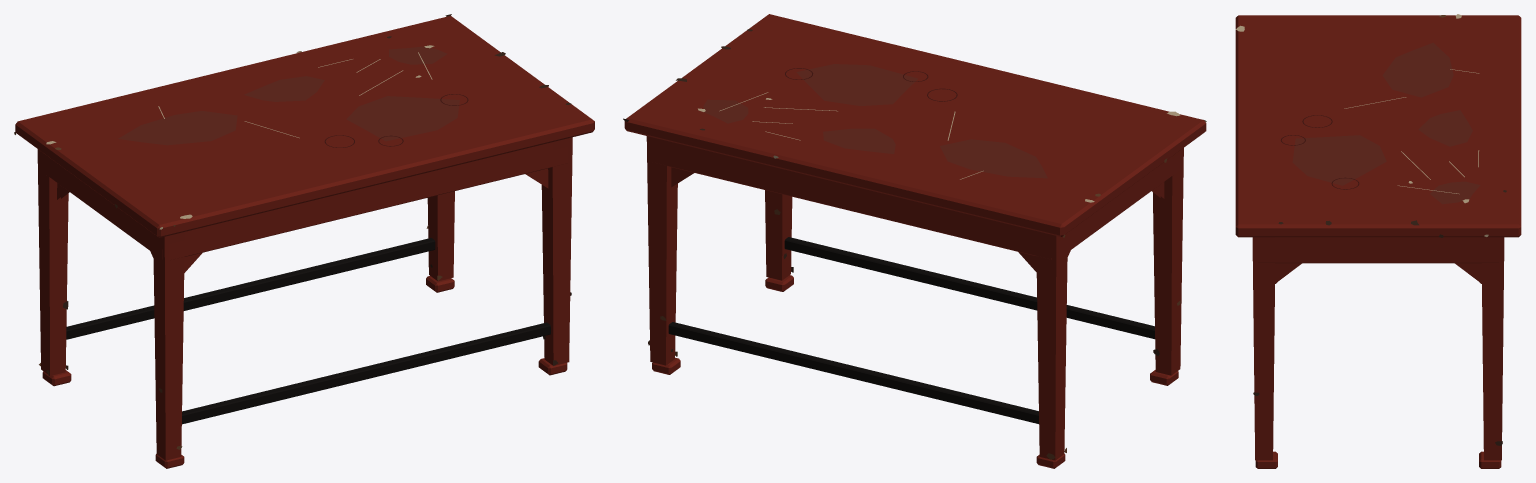
The model's file is table_vermilion.glb.
3 renders of one model, left to right at view 1: azimuth 30°, elevation 25°; view 2: azimuth 150°, elevation 25°; view 3: azimuth 270°, elevation 25°, orthographic.
Parts seen in each view (by area): view 1: teil0, teil6, teil1; view 2: teil0, teil6, teil1; view 3: teil0, teil1, teil3.
Part boxes in pixels (x1=…): teil0: x1=15, y1=15, x2=594, y2=468; teil6: x1=66, y1=238, x2=550, y2=424; teil1: x1=118, y1=46, x2=459, y2=145; teil0: x1=624, y1=14, x2=1206, y2=468; teil6: x1=668, y1=237, x2=1154, y2=423; teil1: x1=703, y1=64, x2=1047, y2=178; teil0: x1=1235, y1=15, x2=1521, y2=468; teil1: x1=1292, y1=42, x2=1480, y2=204; teil3: x1=1235, y1=14, x2=1488, y2=236.
Bounding box in the file's own units: 1.4 × 0.7809 × 0.801.
